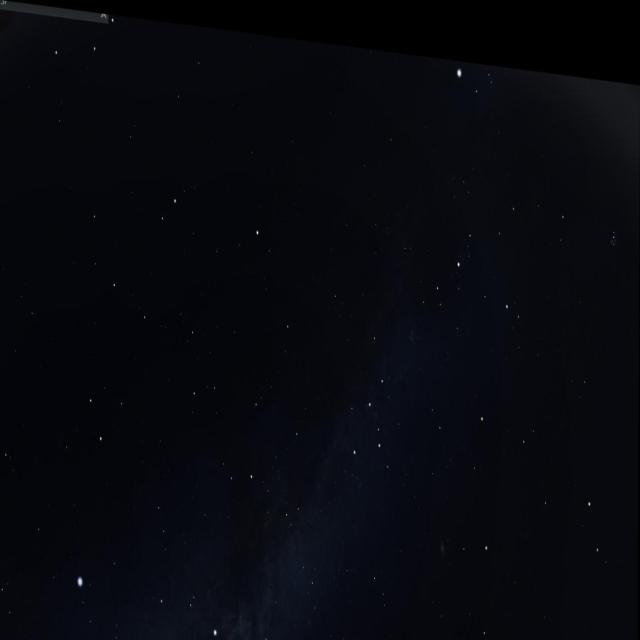cassiopeia: (344, 296, 398, 466)
pleiades: (606, 195, 622, 237)
